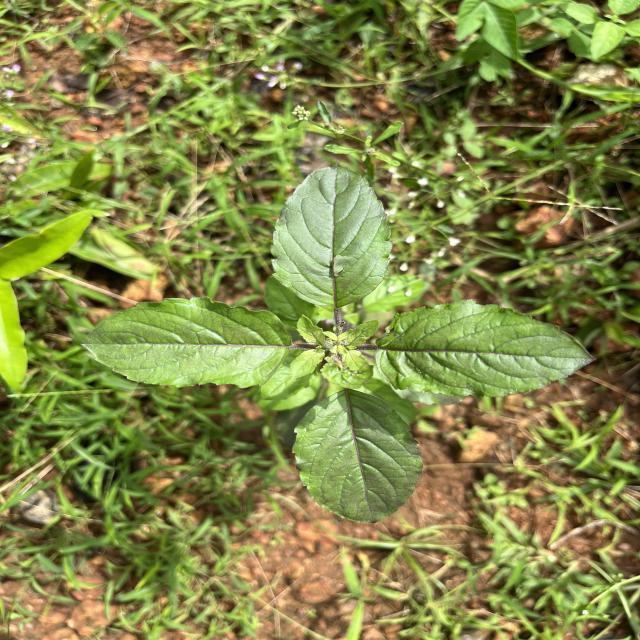Ocimum tenuiflorum: (376, 298, 598, 400), (80, 294, 294, 390), (268, 163, 396, 309), (290, 388, 425, 524)
